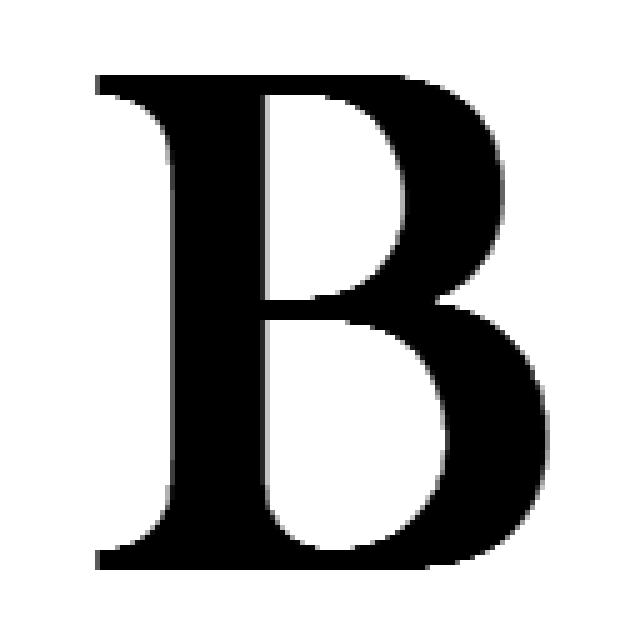B: (95, 75, 545, 575)
